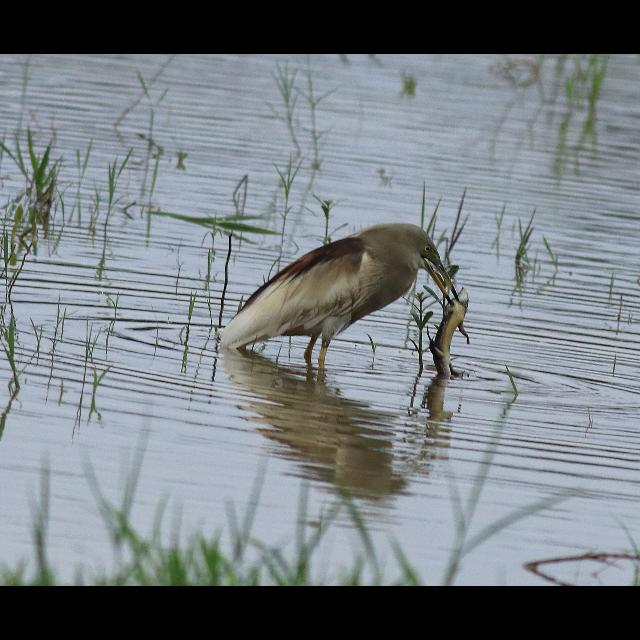heron: (218, 218, 464, 380)
